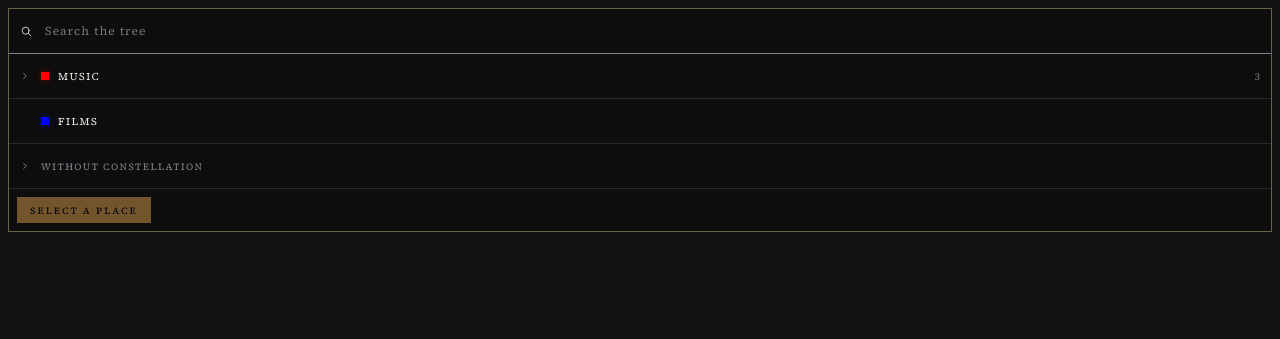
ConstellationPicker › with notes › hides an excluded note with its sub-notes everywhere
This screenshot has width=1280, height=339.
In the field labelled "Search the tree": (654, 31) [37,9,1271,53], type "o"
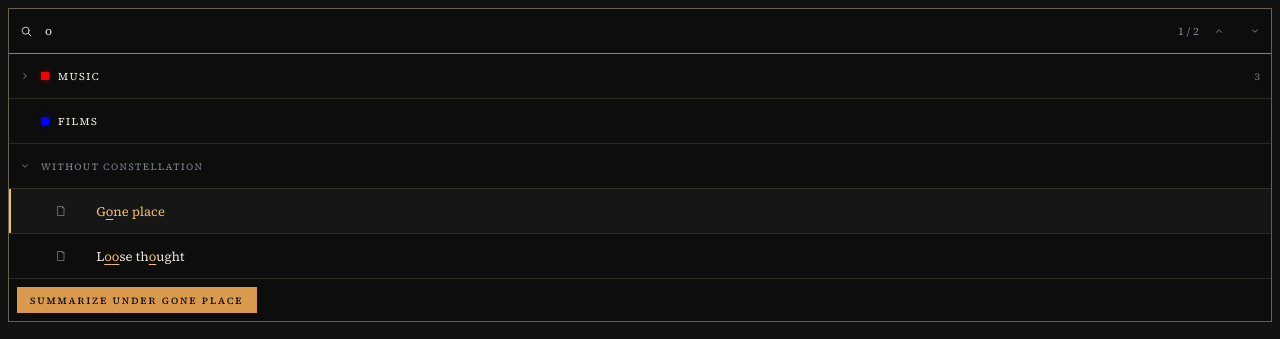
Expected: the number of buttons "Loose thought" is 1, [55,234,1271,278]
